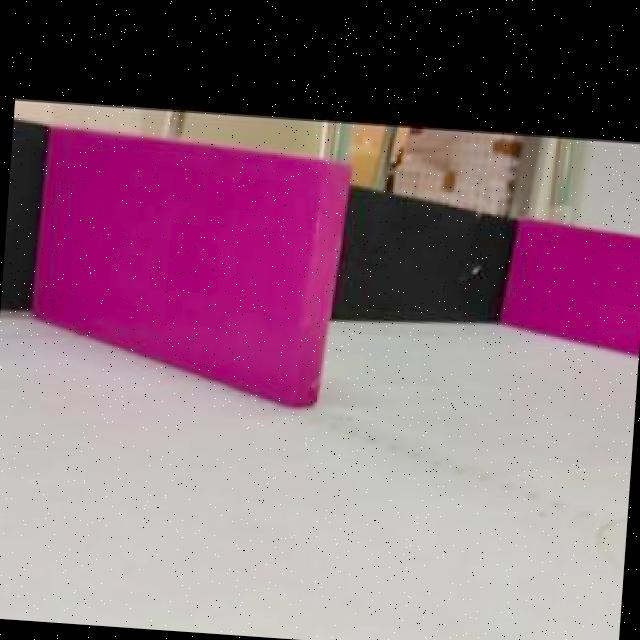xparking: (33, 144, 340, 380), (510, 229, 640, 350)
